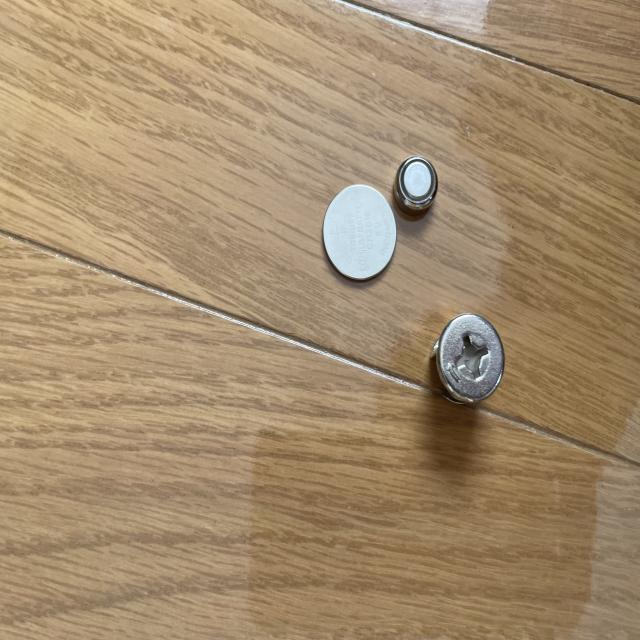COIN: (322, 184, 396, 280), (392, 158, 438, 218)
